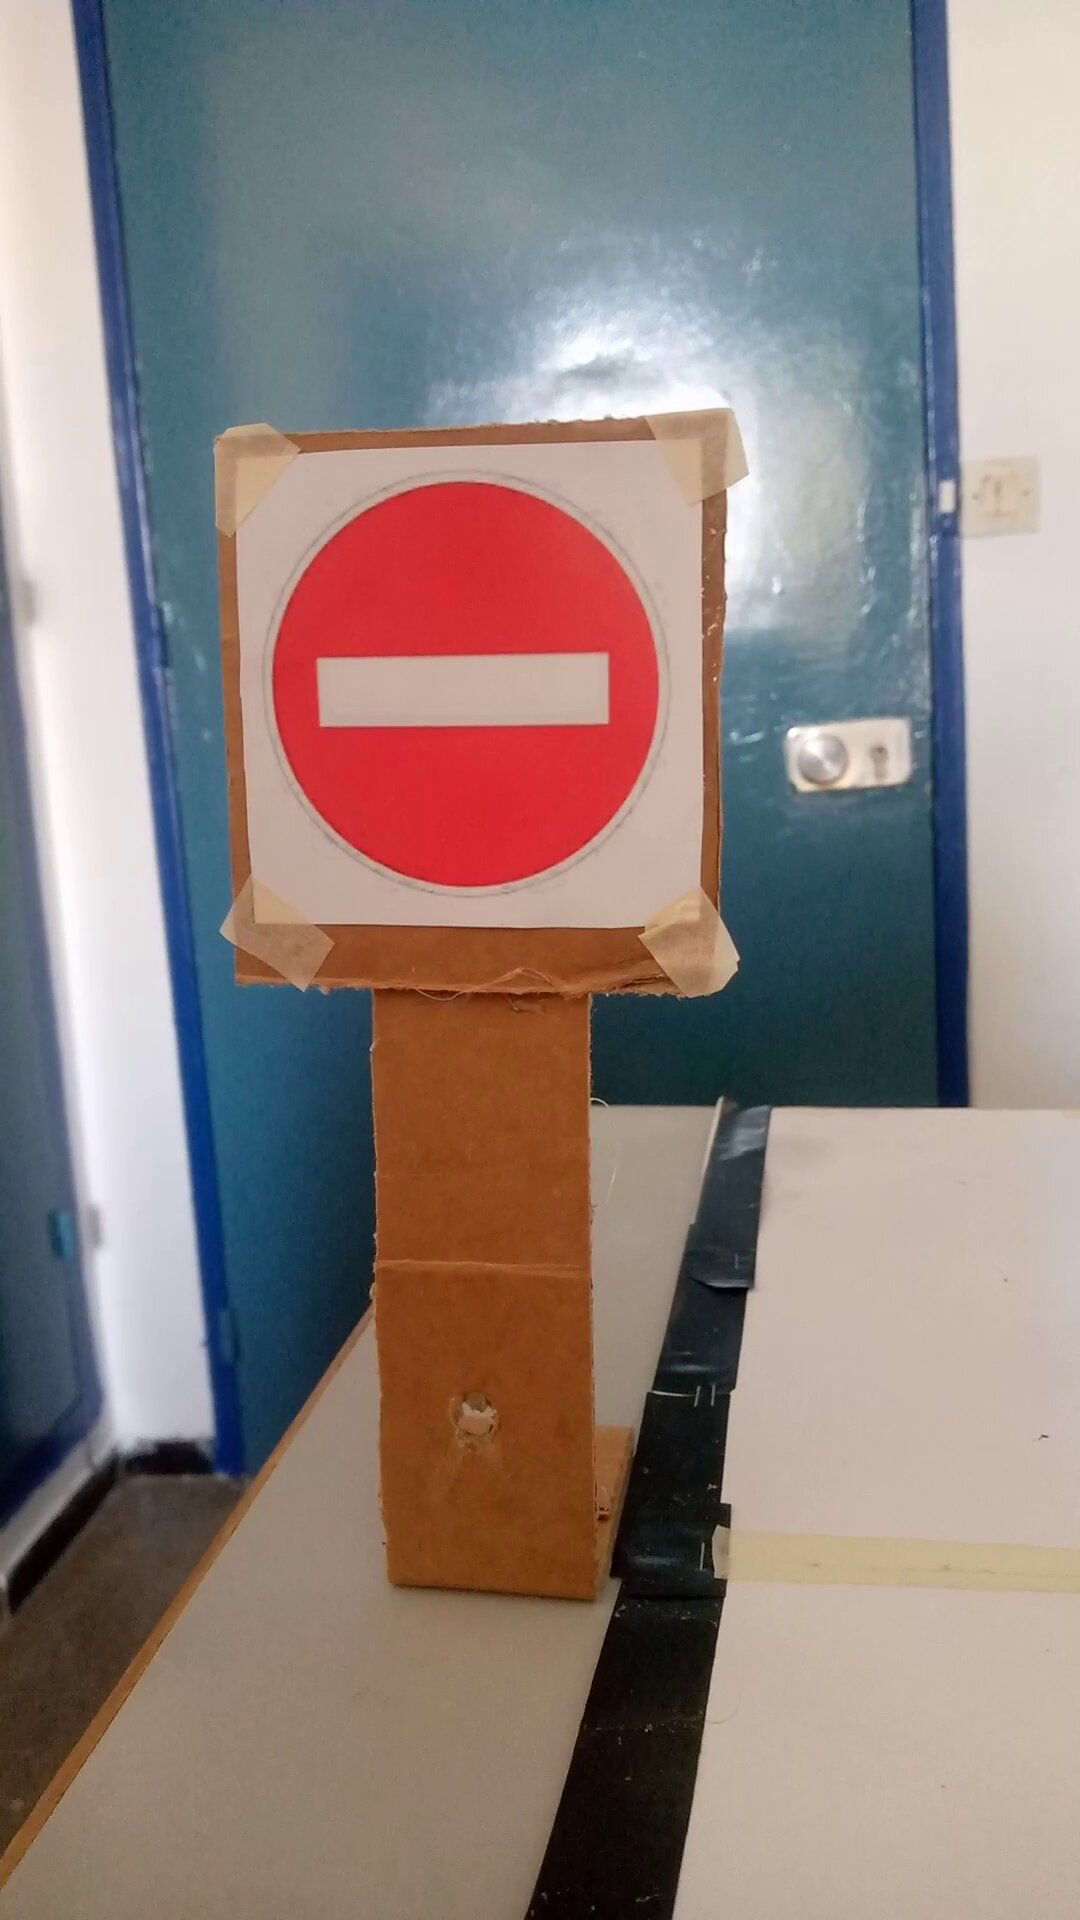panel010: (235, 460, 707, 928)
